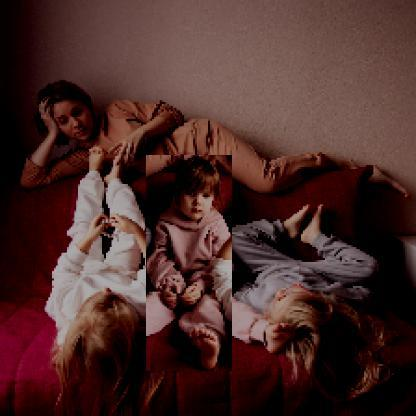child: (44, 146, 171, 416), (225, 204, 392, 403), (147, 156, 234, 373)
